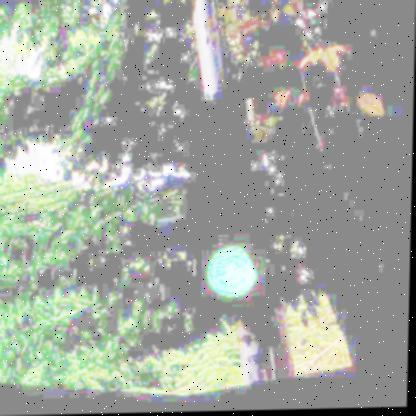Traffic Light -Green-: (156, 93, 301, 329)
